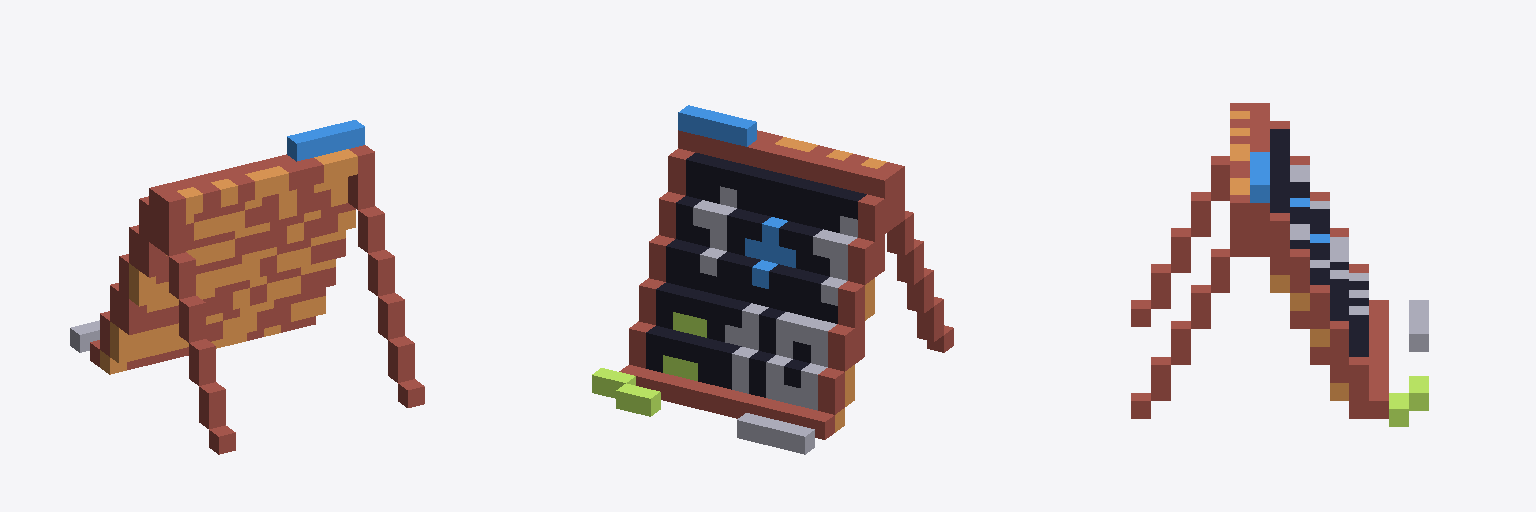
3 views of the same model, side by side, from view 1: azimuth 30°, elevation 25°; view 2: azimuth 150°, elevation 25°; view 3: azimuth 270°, elevation 25° (orthographic).
Visible parts, largest first — view 1: Board_Board.001; view 2: Board_Board.001; view 3: Board_Board.001.
Boxes of the visible parts, x1,y1,x2,y2 form: Board_Board.001: [70, 120, 424, 454]; Board_Board.001: [592, 105, 953, 454]; Board_Board.001: [1131, 103, 1428, 426].
Size of the model in its own units: 1.3 by 1.3 by 1.5.
1 materials, 1 textured.